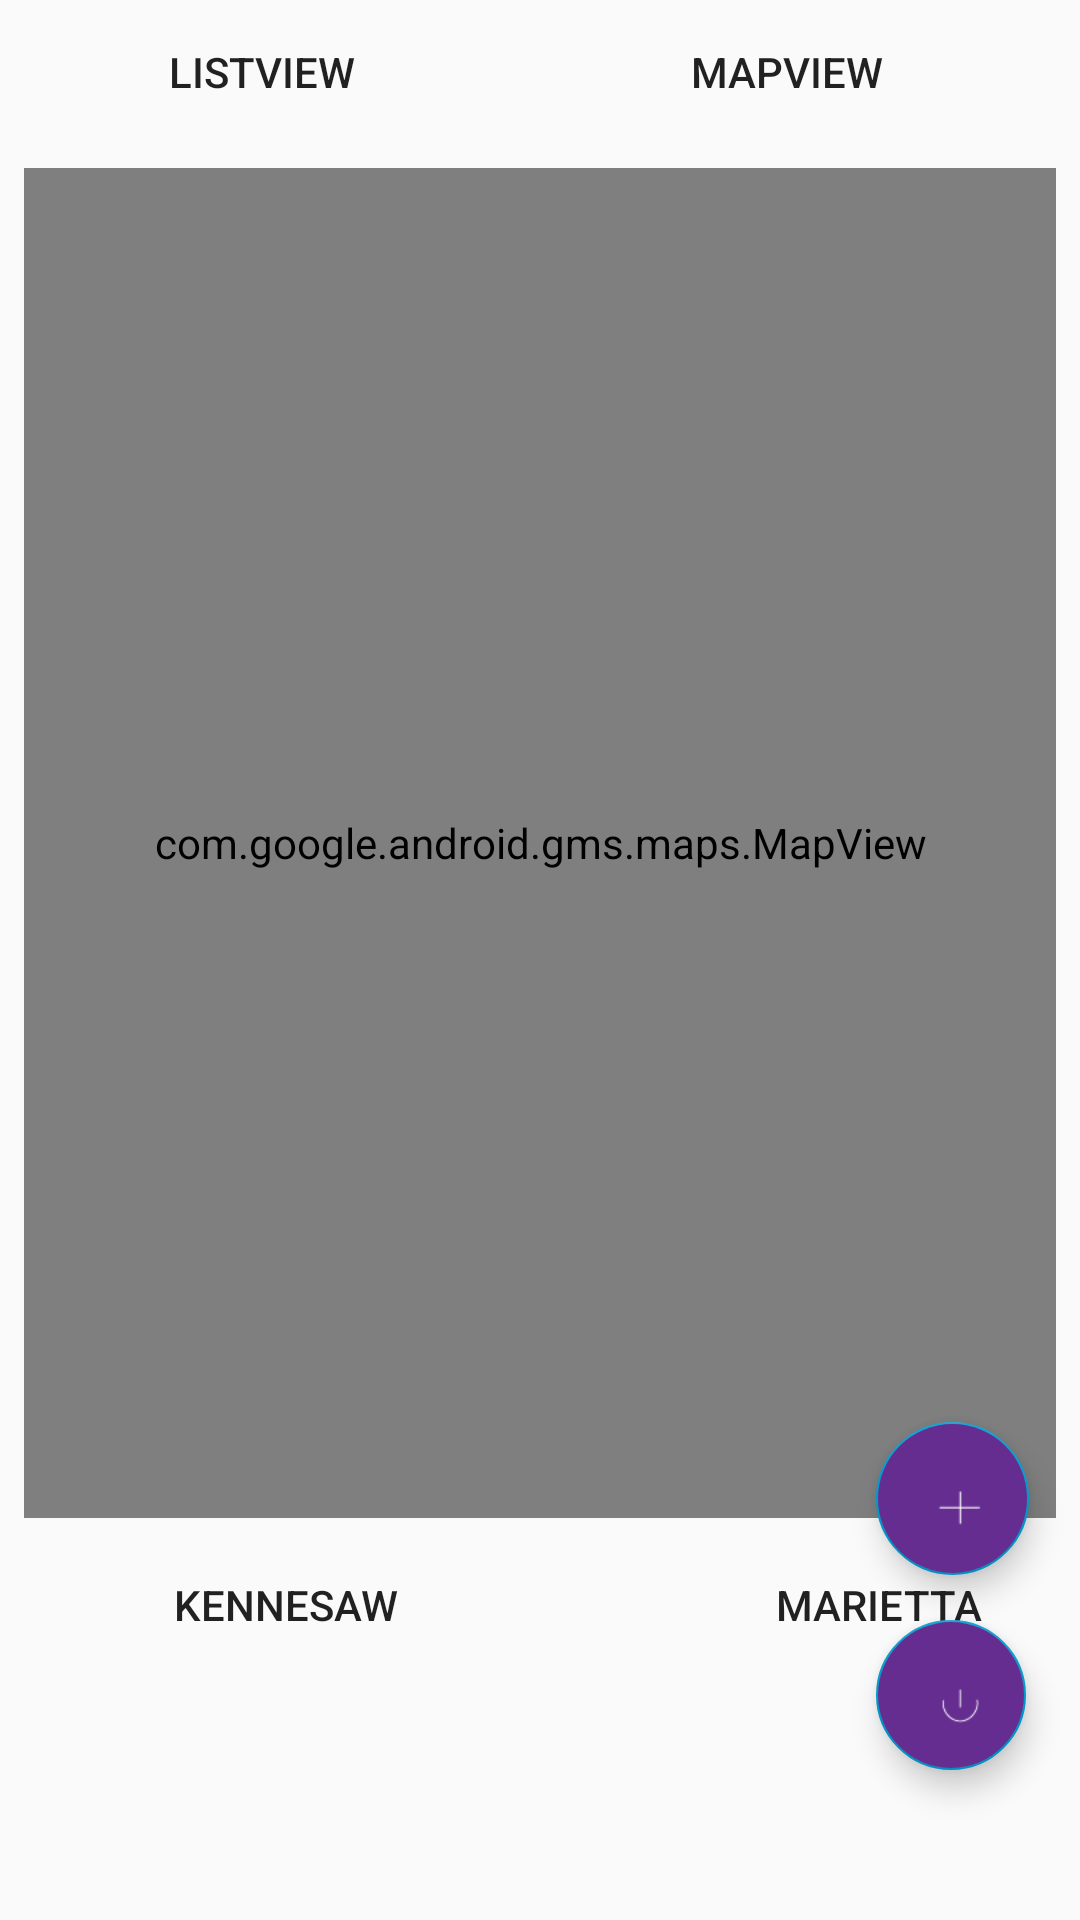

Icon click points for this 1080px×1920px phone screenshot, format [x,y]:
add: [952,1498]
